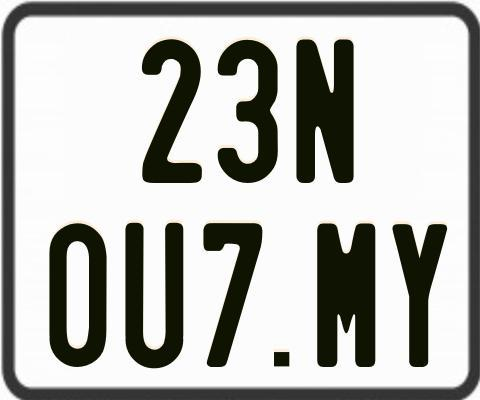0: (49, 222, 110, 366)
2: (142, 38, 203, 185)
3: (218, 40, 283, 187)
7: (202, 220, 266, 365)
M: (315, 222, 374, 369)
N: (296, 39, 357, 187)
U: (122, 223, 184, 372)
Y: (391, 224, 446, 367)
